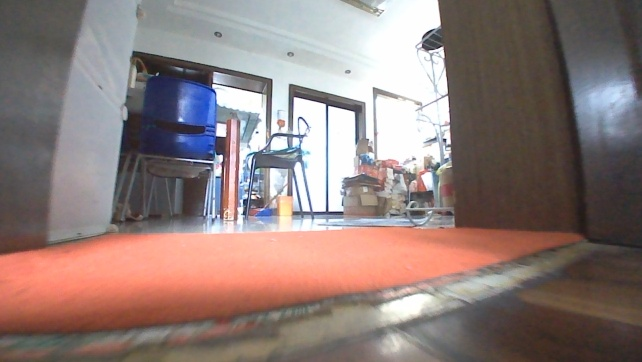blanket: (0, 220, 588, 338)
dining_table: (110, 71, 317, 223)
